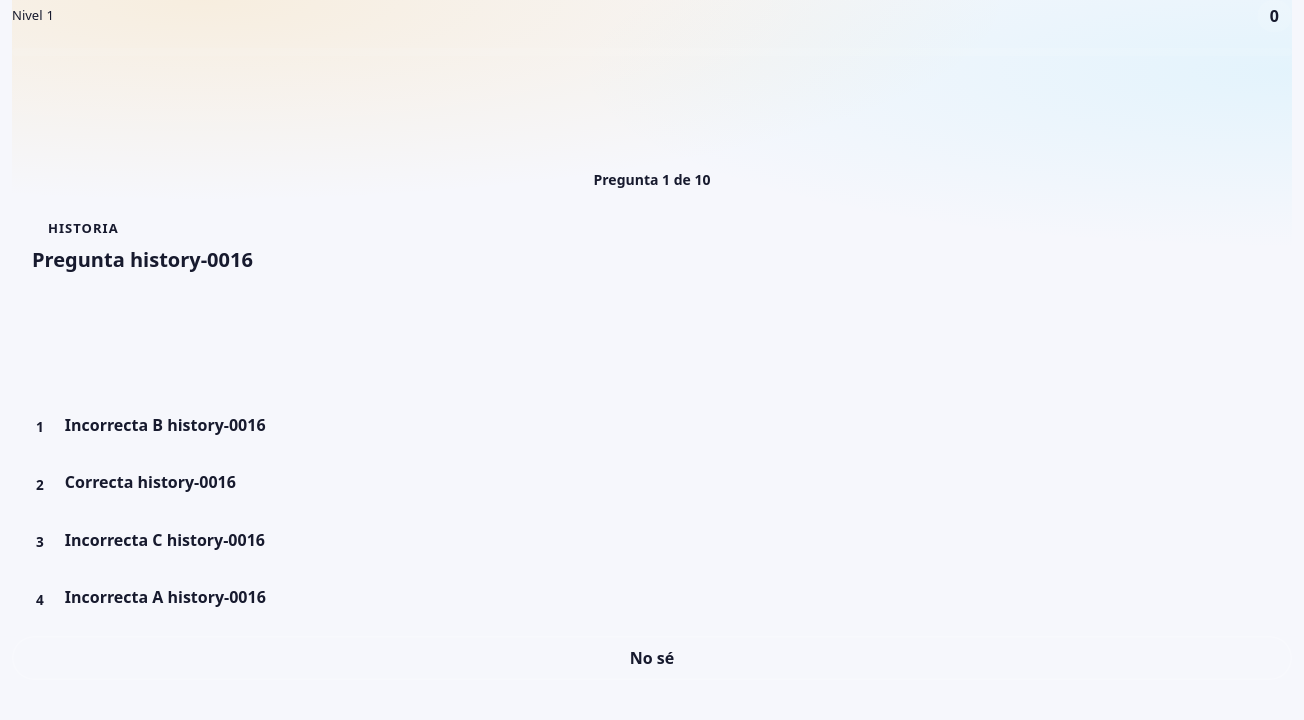
the timer cannot fire after an answer
What coordinates should you click on to do the following:
click the button "2 Correcta history-0016"
I would click on:
 (64, 482)
Its box is [12,461,1292,509].
Wait 25000 ms
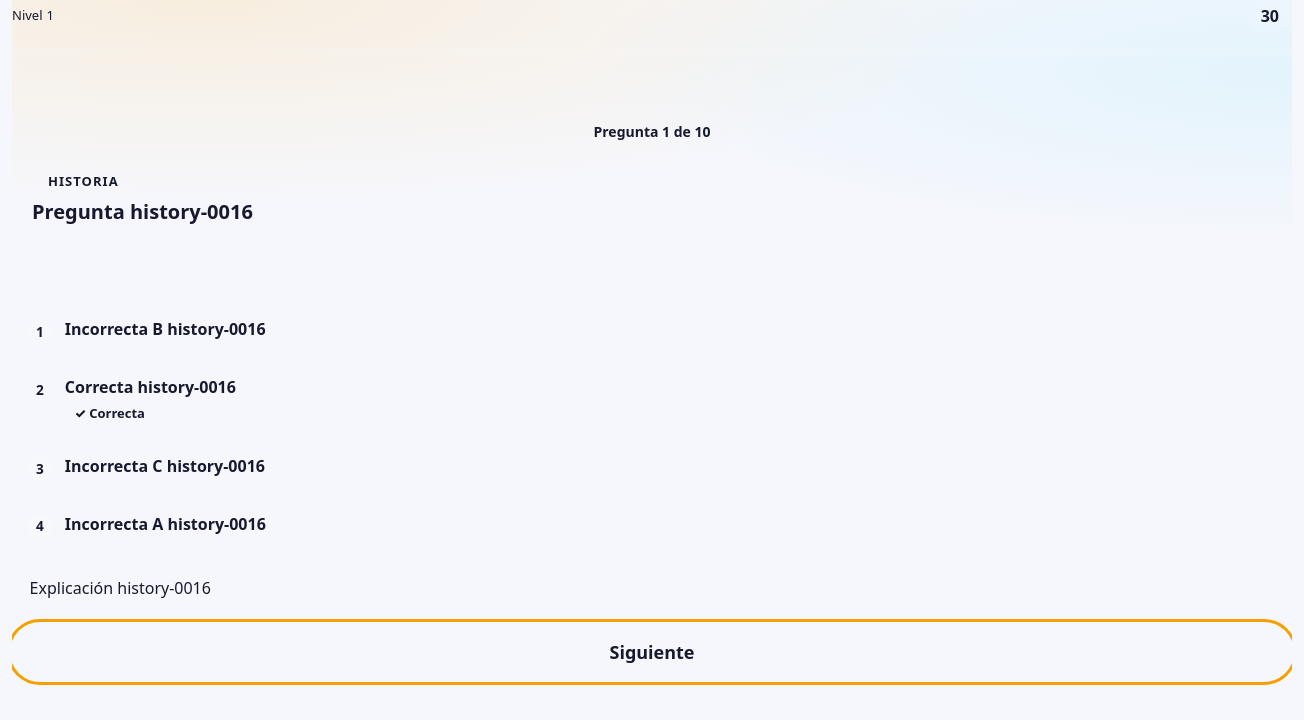
expect the text "Pregunta 1 de 10" is shown: met, box [594,122,710,141]
expect the text "Explicación history-0016" is shown: met, box [30,577,211,599]
